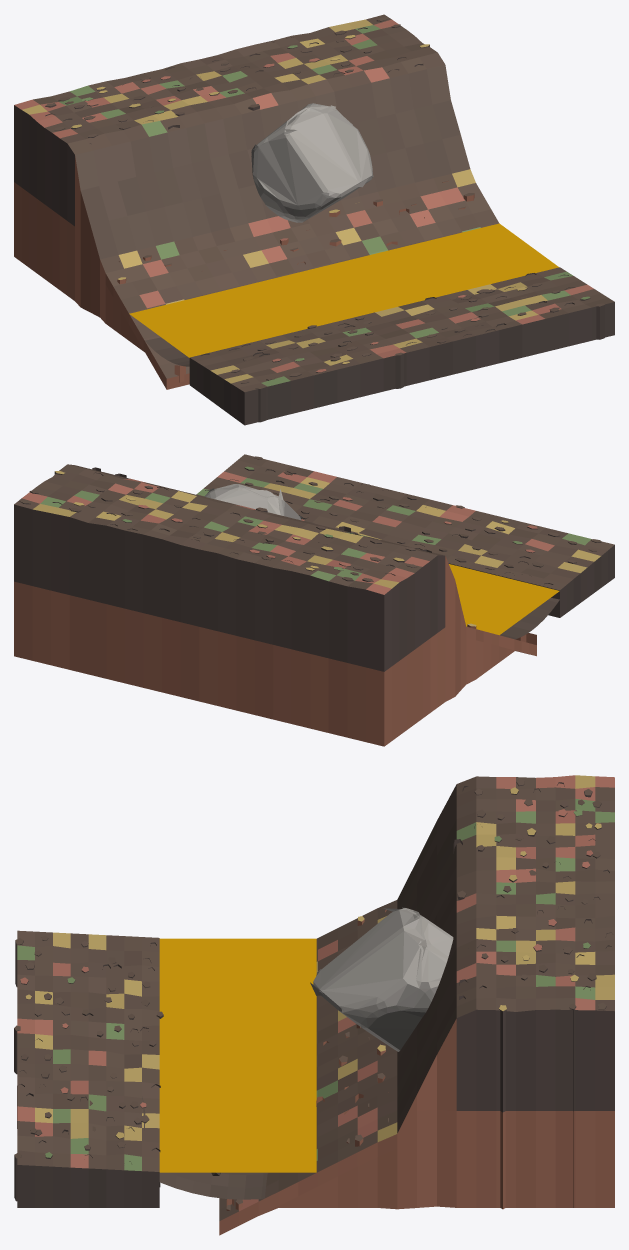
The model's file is riacho_floresta.glb.
3 views of the same model, one above another, from view 1: azimuth 30°, elevation 25°; view 2: azimuth 150°, elevation 25°; view 3: azimuth 270°, elevation 25° (orthographic). The views are drawn at different scales.
Visible parts, largest first — view 1: Terrain_Encosta_Paredao, Terrain_Foreground_TerraPreta, Water_Igarape_Surface, Boulder_Protruding_Chunk, Riverbed_Igarape; view 2: Terrain_Encosta_Paredao, Terrain_Foreground_TerraPreta, Water_Igarape_Surface, Boulder_Protruding_Chunk, Riverbed_Igarape; view 3: Terrain_Encosta_Paredao, Terrain_Foreground_TerraPreta, Water_Igarape_Surface, Boulder_Protruding_Chunk, Riverbed_Igarape.
Part boxes in pixels (<box>): Terrain_Encosta_Paredao: <box>14,14,499,389</box>; Terrain_Foreground_TerraPreta: <box>189,267,614,425</box>; Water_Igarape_Surface: <box>129,223,558,357</box>; Boulder_Protruding_Chunk: <box>251,103,373,222</box>; Riverbed_Igarape: <box>145,337,189,366</box>; Terrain_Encosta_Paredao: <box>14,464,536,746</box>; Terrain_Foreground_TerraPreta: <box>196,454,614,617</box>; Water_Igarape_Surface: <box>449,564,559,635</box>; Boulder_Protruding_Chunk: <box>204,484,302,520</box>; Riverbed_Igarape: <box>304,521,559,639</box>; Terrain_Encosta_Paredao: <box>219,775,614,1235</box>; Terrain_Foreground_TerraPreta: <box>14,930,163,1207</box>; Water_Igarape_Surface: <box>159,938,316,1172</box>; Boulder_Protruding_Chunk: <box>310,907,453,1051</box>; Riverbed_Igarape: <box>142,1096,267,1199</box>.
Size of the model in its own units: 7.09 by 3.16 by 7.59.
